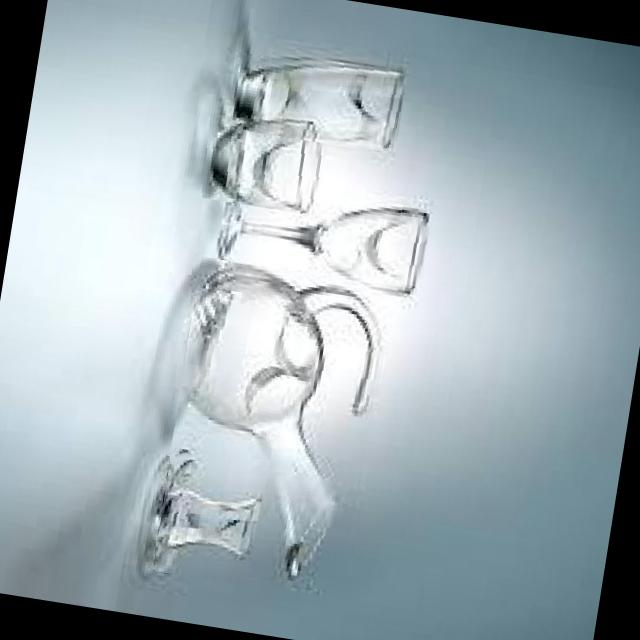Glass: (152, 256, 397, 594), (212, 179, 434, 299), (230, 44, 410, 156), (152, 445, 270, 587), (196, 103, 328, 216)
